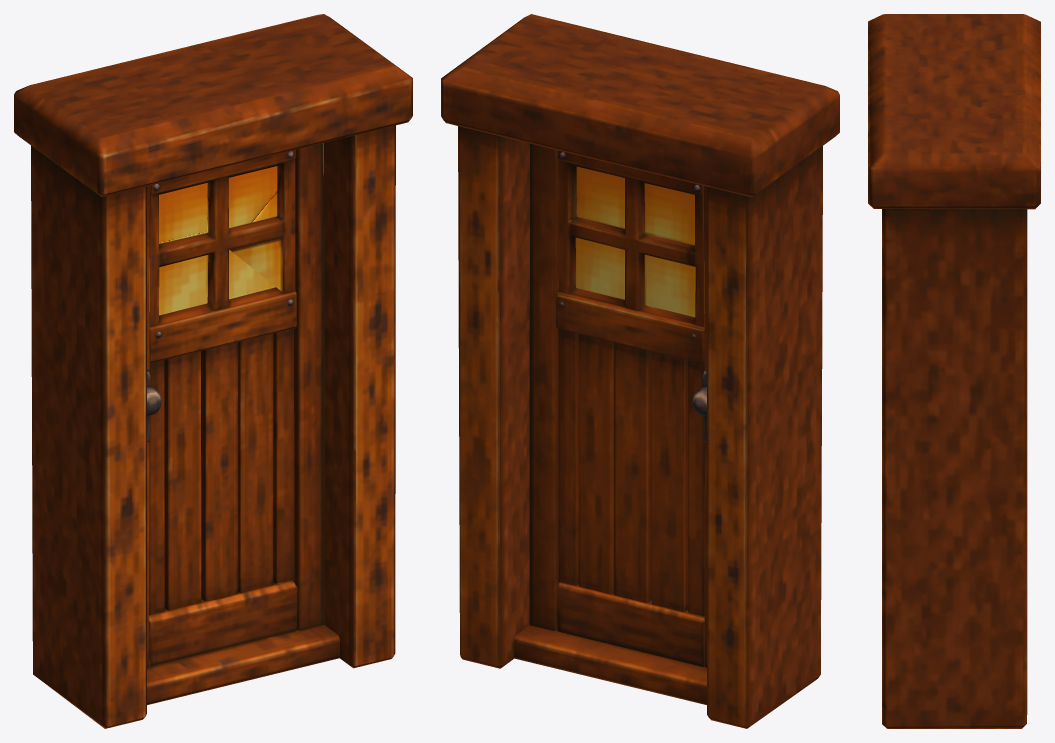
Rendered from HK_door.glb.
3 renders of one model, left to right at view 1: azimuth 30°, elevation 25°; view 2: azimuth 150°, elevation 25°; view 3: azimuth 270°, elevation 25°, orthographic. The views are drawn at different scales.
Parts seen in each view (by area): view 1: geometry_0; view 2: geometry_0; view 3: geometry_0.
Part boxes in pixels (box(x1,y1,x2,y2)): geometry_0: box(14, 14, 412, 728); geometry_0: box(441, 14, 839, 728); geometry_0: box(868, 14, 1040, 728).
Size of the model in its own units: 0.5308 by 0.9517 by 0.2583.
Materials: 1 (1 with a texture image).
